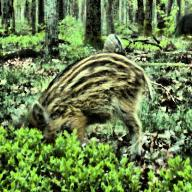boar: (22, 48, 156, 161)
